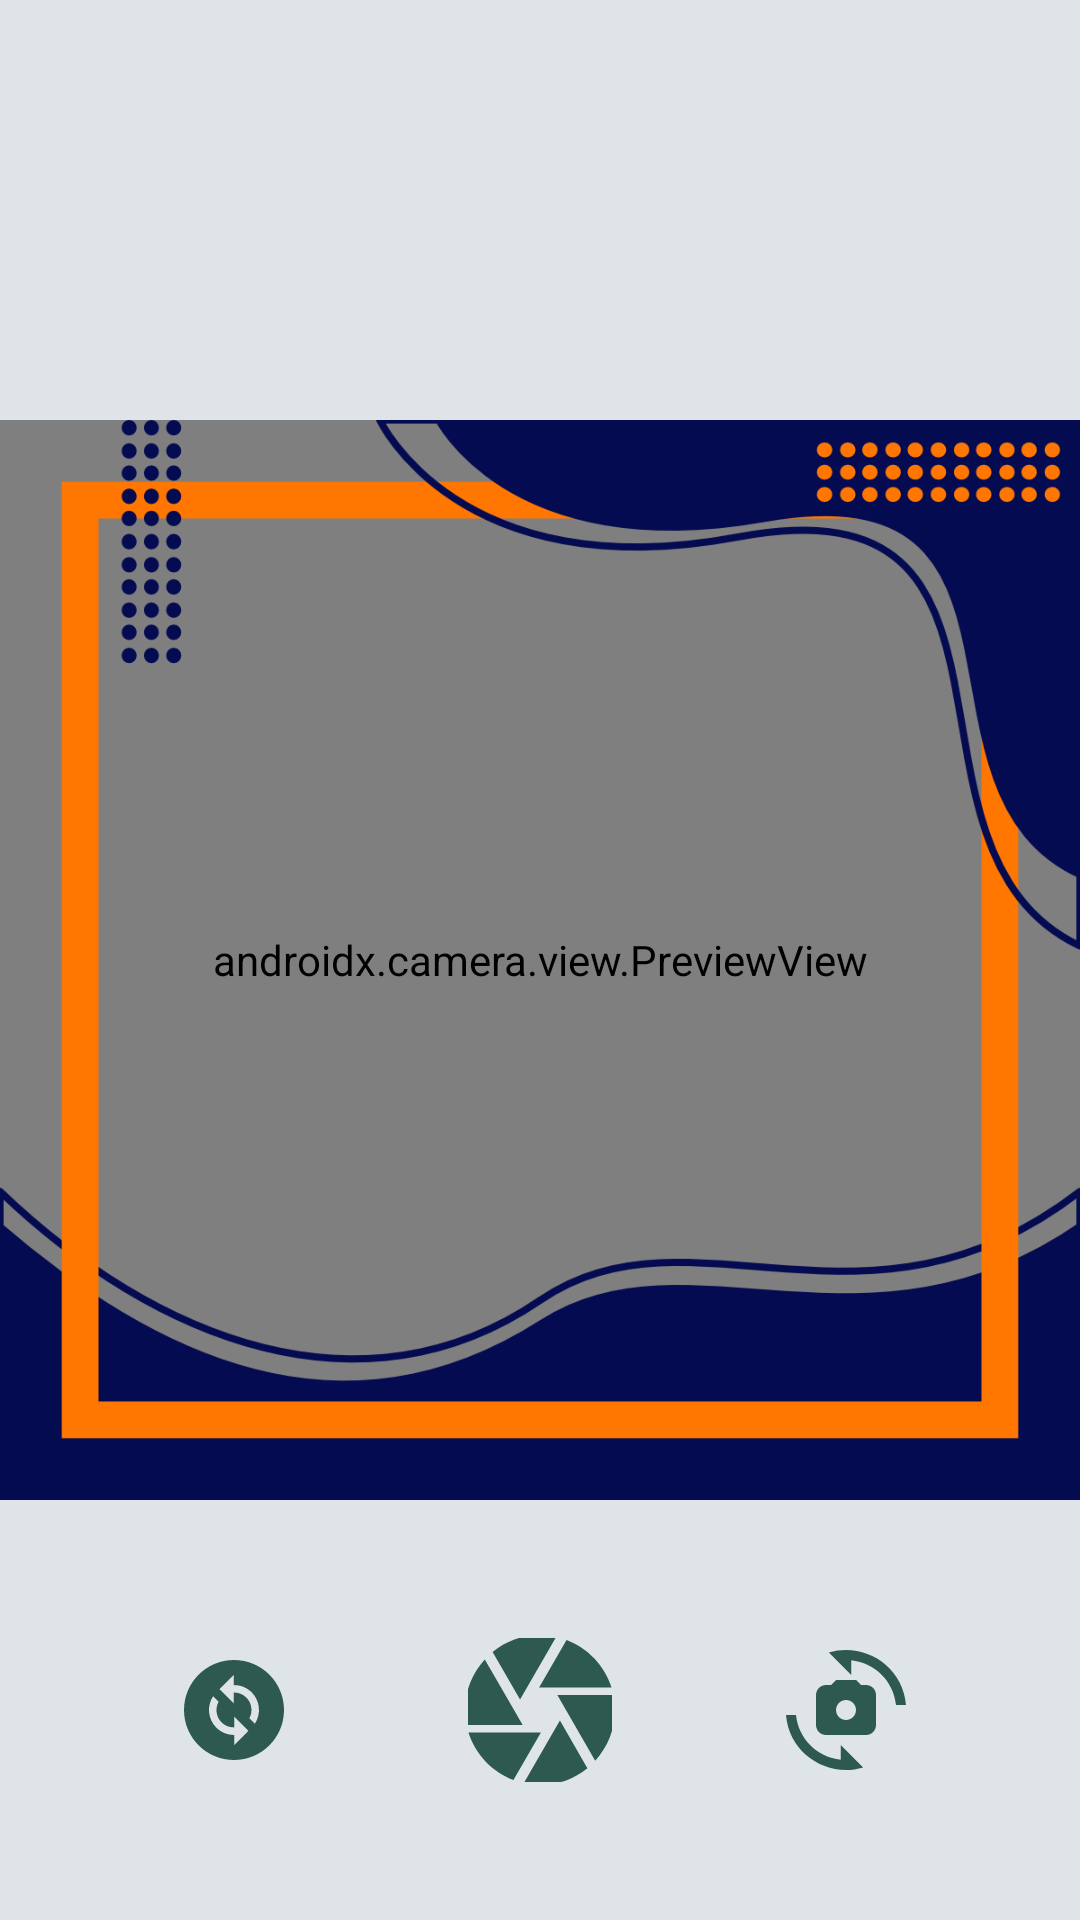

Icons on this 1080px×1920px Android screen, each with the point to tap as [x,y]:
cameraswitch: [846,1710]
change circle: [234,1710]
